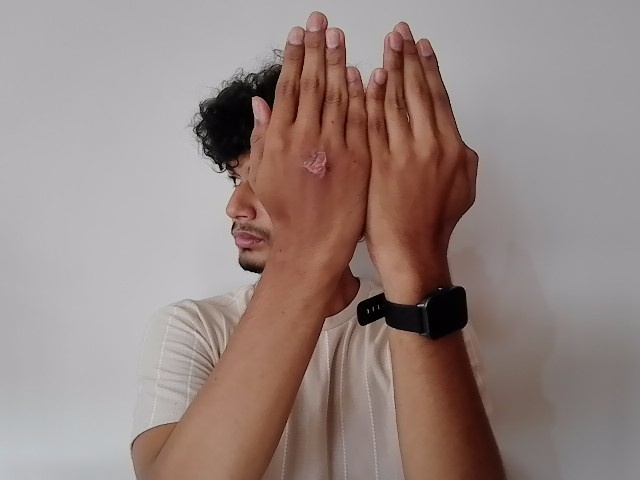school: (248, 13, 480, 266)
